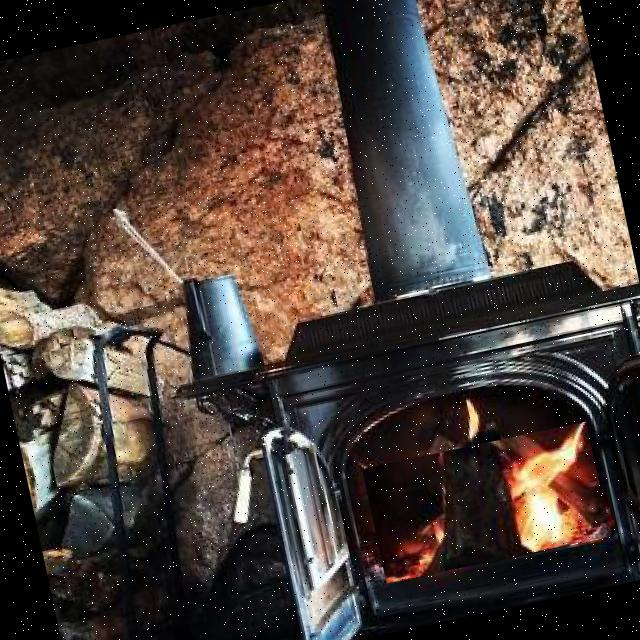fire: (362, 421, 610, 583)
